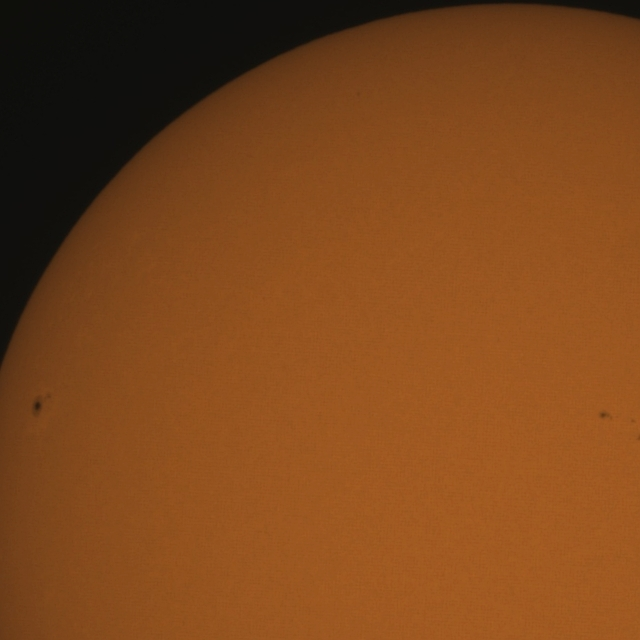sunspot: (31, 392, 52, 417), (598, 410, 614, 421), (630, 417, 637, 425)
